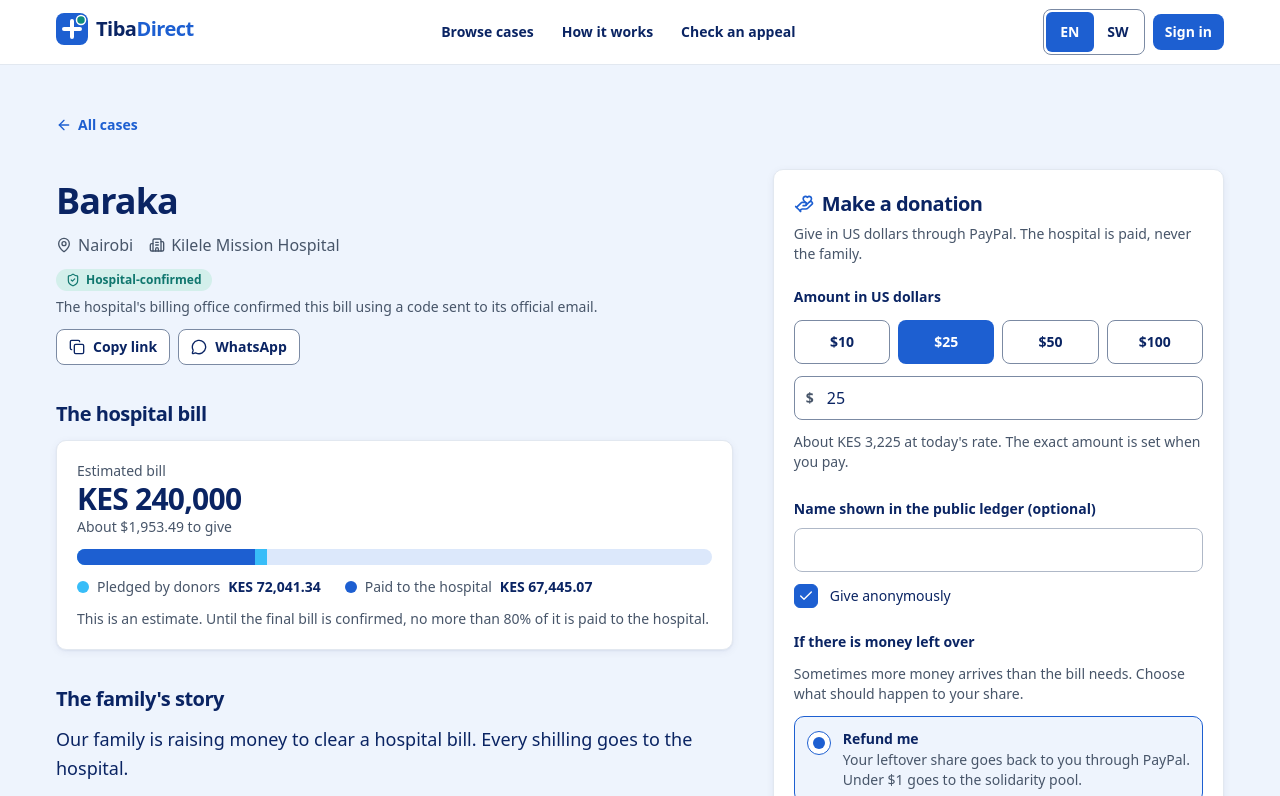
Test: donating (simulated PayPal) › starts at $25 and shows the shilling estimate, updating with the amount
The image size is (1280, 796).
Check: the text "About KES 3,225 at today's rate" is shown, box [794,432,1200,471]
Click the button "$50".
click(1051, 342)  # box [1002,320,1099,364]
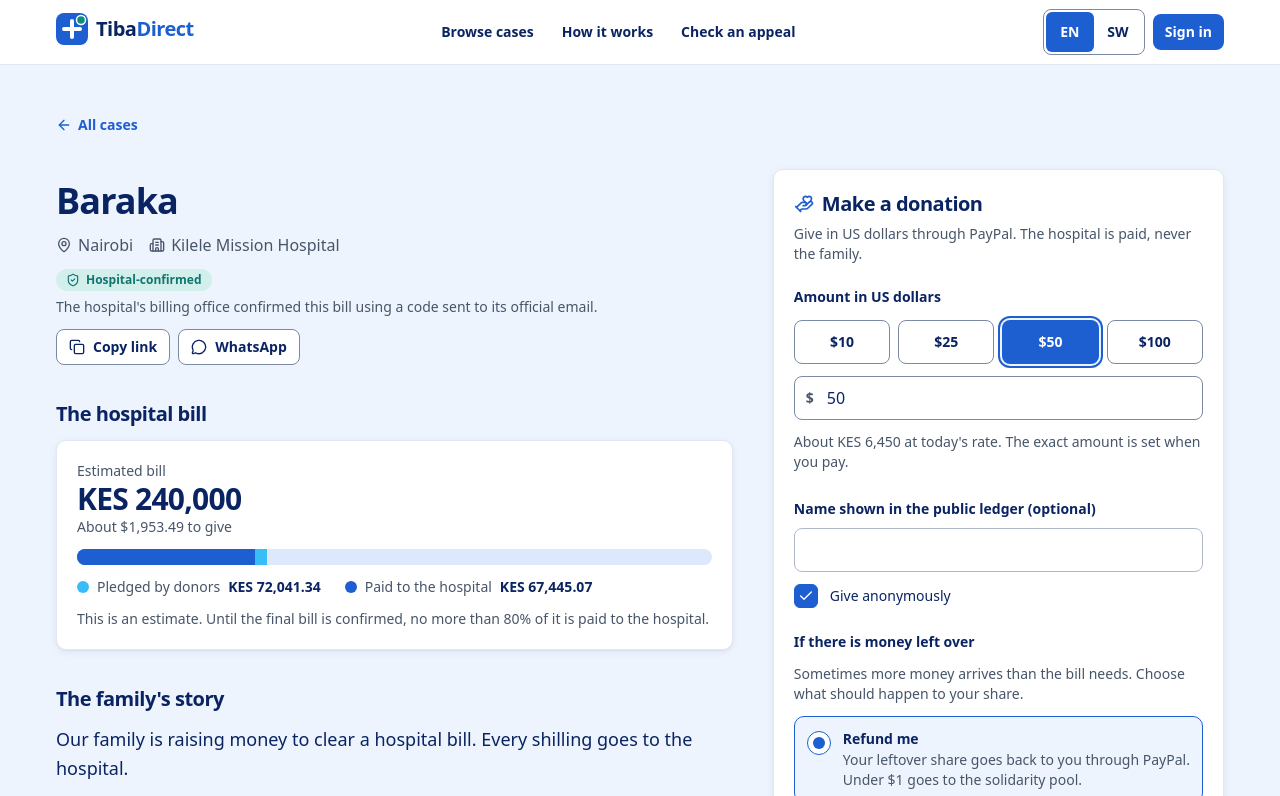
Check: the text "About KES 6,450 at today's rate" is shown, box [794,432,1200,471]
